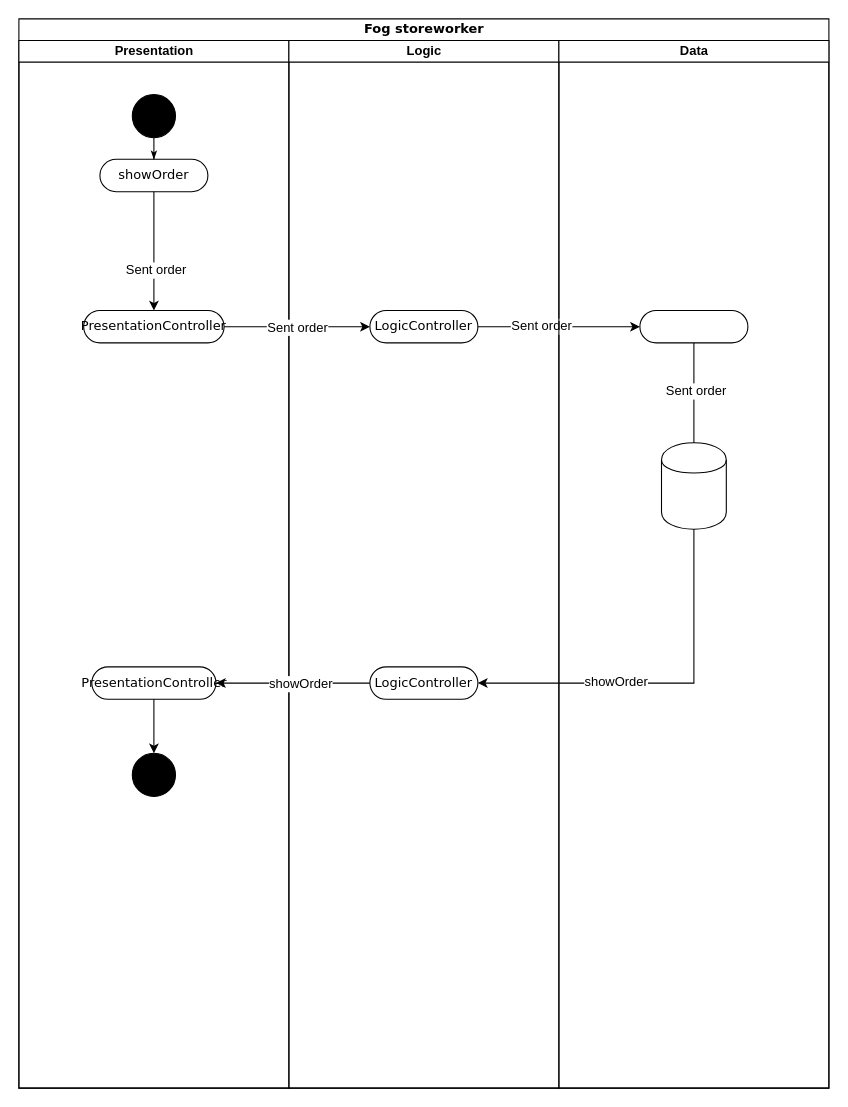
Some shapes in this 848 by 1107 pixel diagram are drawn without their labels. The shapes that lost their labels are listed below. From the top down, each one's centre as x and y in pixels, then its label:
At [693,326]: "DAO Controller".
At [693,485]: "Database".
